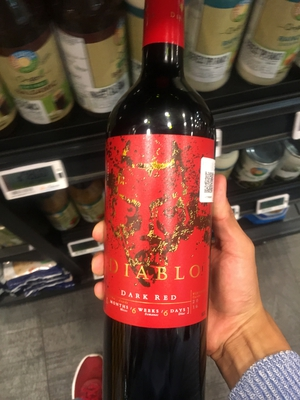diablo dark red: (86, 20, 224, 400)
